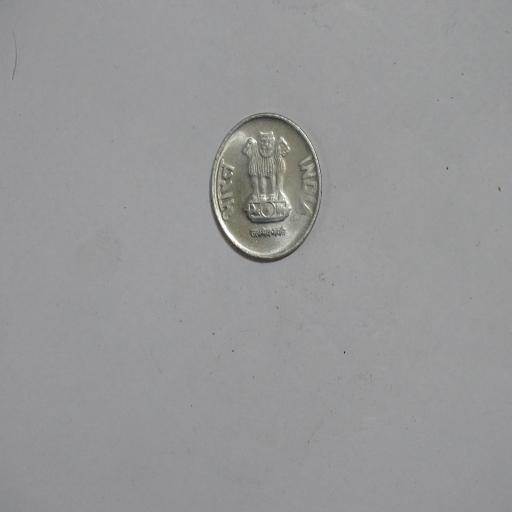rupee1: (208, 113, 321, 260)
